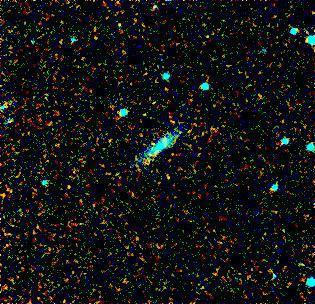star: (133, 149, 163, 179)
